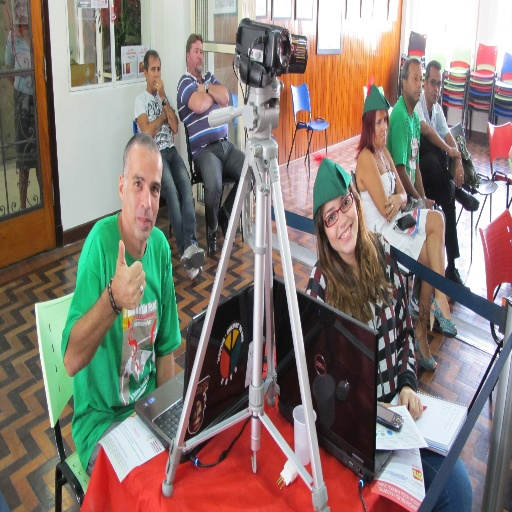hand: (104, 256, 144, 315), (397, 386, 423, 421), (383, 192, 403, 222), (452, 157, 464, 190), (153, 73, 165, 100), (448, 148, 461, 161), (424, 197, 436, 210), (161, 107, 168, 124), (195, 82, 205, 92)
